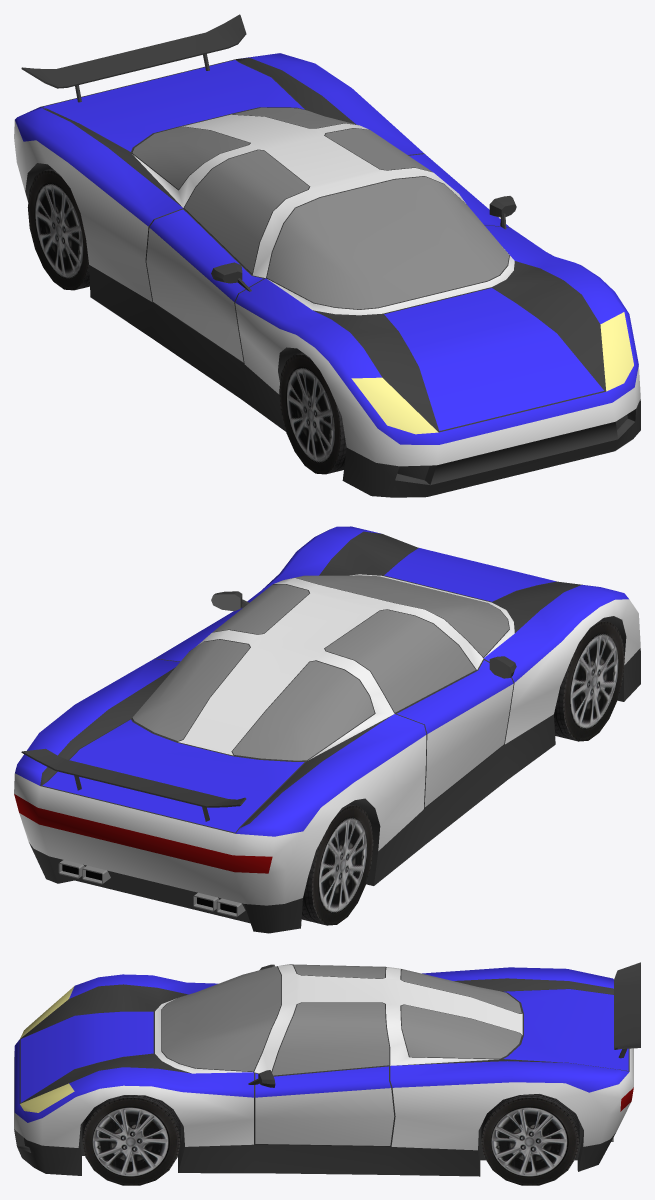
The model's file is Car 09.FBX.
3 views of the same model, one above another, from view 1: azimuth 30°, elevation 25°; view 2: azimuth 150°, elevation 25°; view 3: azimuth 270°, elevation 25° (orthographic). The views are drawn at different scales.
Visible parts, largest first — view 1: Car 09; view 2: Car 09; view 3: Car 09.
Boxes of the visible parts, x1=… form: Car 09: x1=14, y1=14, x2=640, y2=497; Car 09: x1=14, y1=526, x2=640, y2=933; Car 09: x1=14, y1=962, x2=640, y2=1185.
Size of the model in its own units: 2.14 by 1.22 by 4.88.
